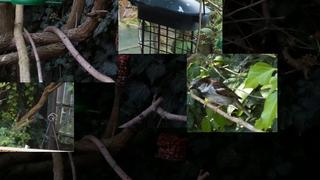sparrow: (188, 78, 253, 119)
